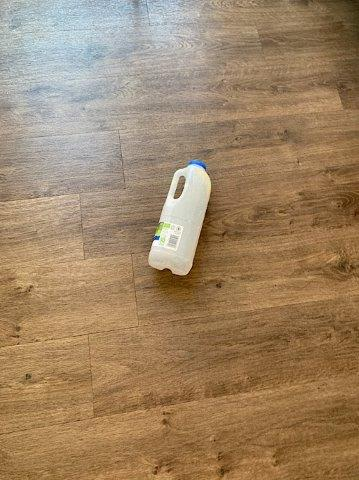botolplastik: (149, 161, 211, 274)
